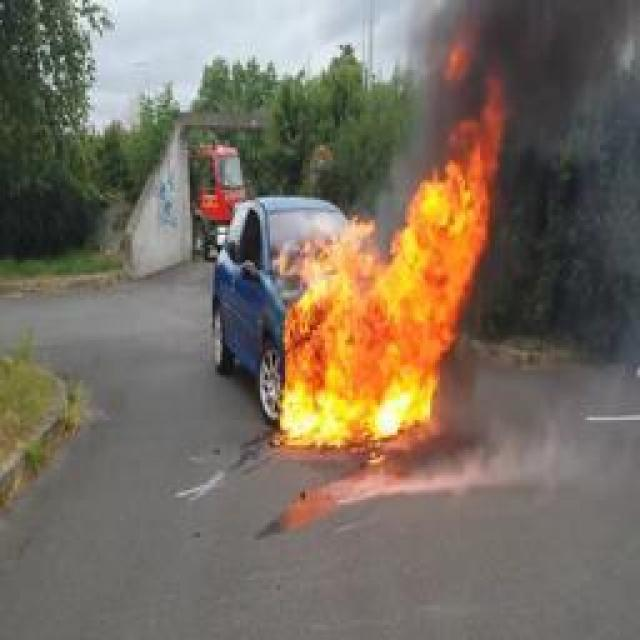Fire: (278, 76, 506, 444)
